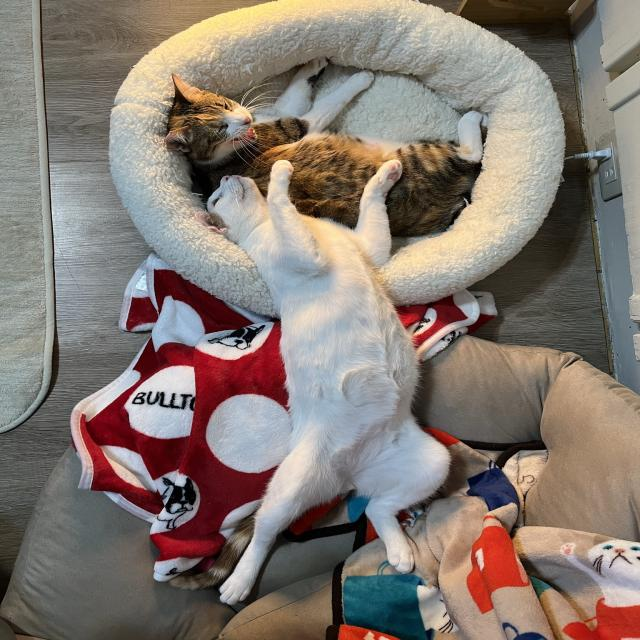cat1: (194, 167, 450, 601)
cat2: (155, 72, 492, 230)
